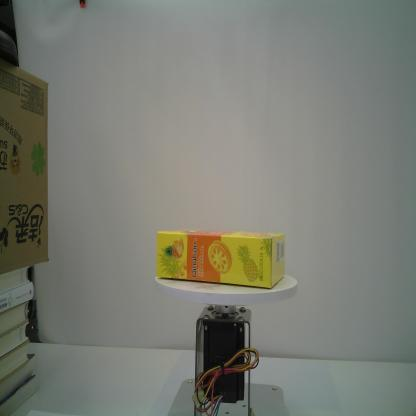Dessert: (154, 228, 288, 290)
